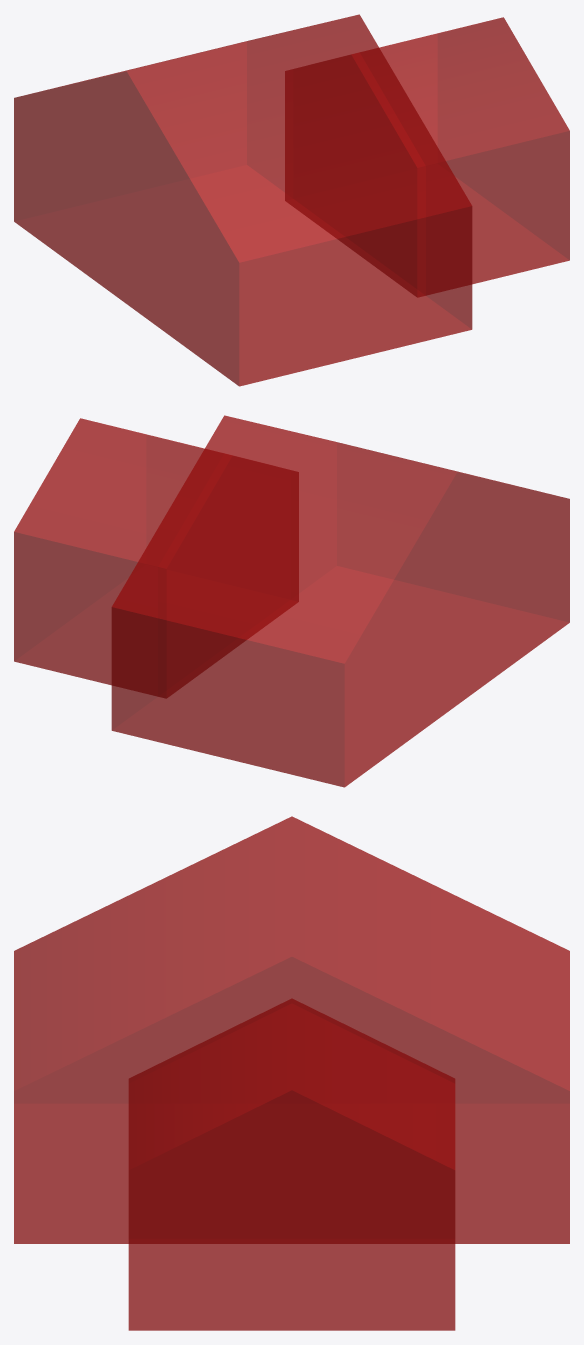
The model's file is SM_Bld_House_Preset_07_COLLISION.fbx.
The picture shows the model from 3 angles, top to bottom: view 1: azimuth 30°, elevation 25°; view 2: azimuth 150°, elevation 25°; view 3: azimuth 270°, elevation 25°; orthographic projection. The views are drawn at different scales.
Visible parts, largest first — view 1: SM_Bld_House_Preset_07_COLLISION; view 2: SM_Bld_House_Preset_07_COLLISION; view 3: SM_Bld_House_Preset_07_COLLISION.
Boxes of the visible parts, x1,y1,x2,y2 form: SM_Bld_House_Preset_07_COLLISION: (14, 14, 569, 386); SM_Bld_House_Preset_07_COLLISION: (14, 415, 569, 787); SM_Bld_House_Preset_07_COLLISION: (14, 816, 569, 1330).
Size of the model in its own units: 1303 by 769 by 1349.
